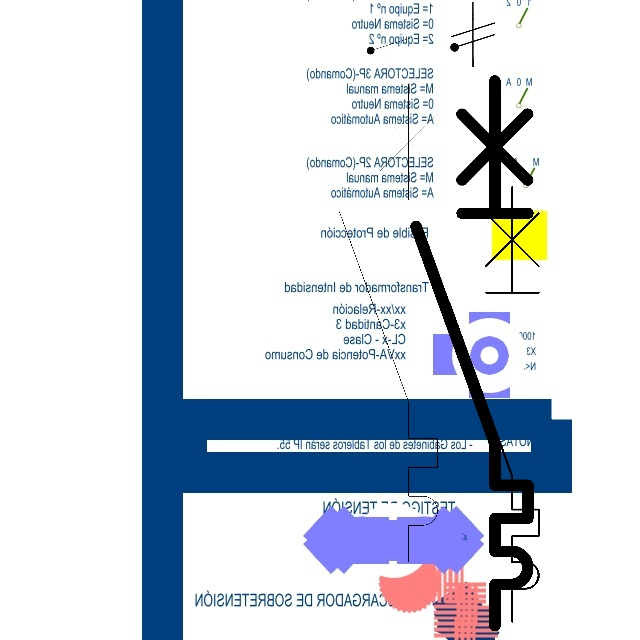interruptor_termomagnetico: (402, 66, 542, 639), (327, 71, 450, 573), (438, 175, 550, 632)
